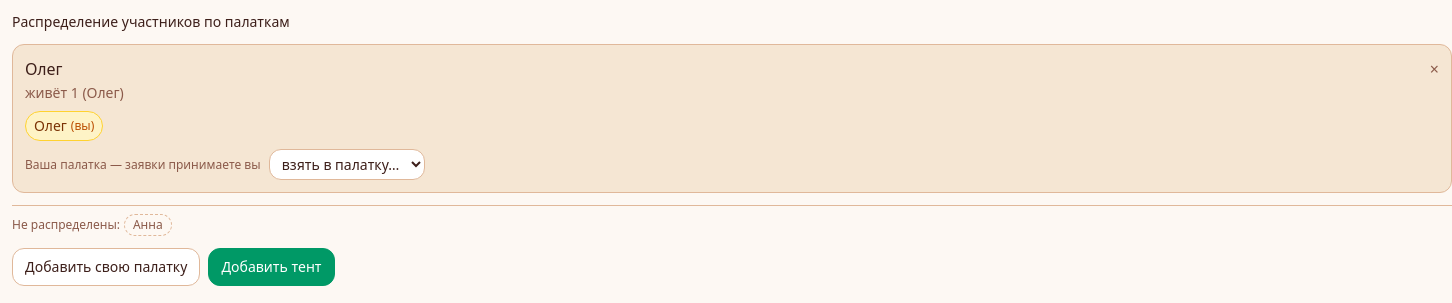
Test case: секция «Палатки» › владелец убирает свою палатку крестиком сразу
Step 1. Click the button with test id "route-tent-remove-g9" → point(1434, 69), box x1=1430 y1=57 x2=1439 y2=81
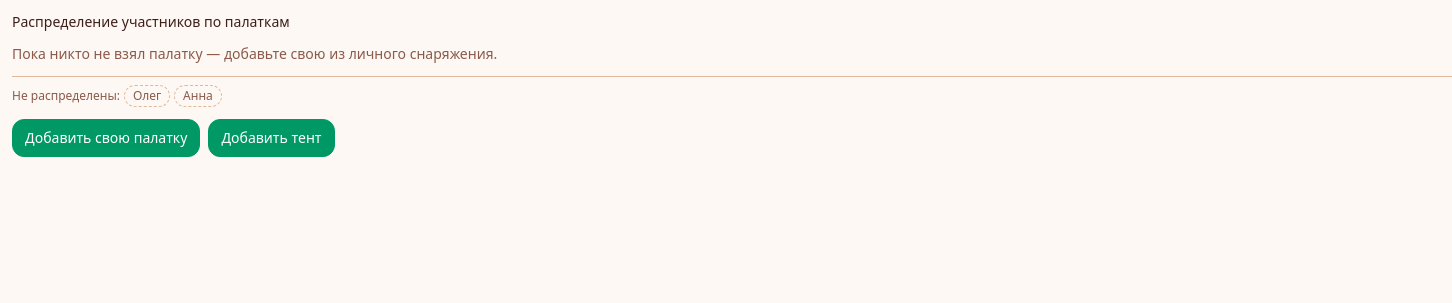
Result: no elements with test id "route-tent" are shown
Result: the text with test id "route-tents-empty" is shown at x1=12 y1=44 x2=497 y2=63
Result: the element with test id "route-tents-unassigned" shows "Олег" at x1=133 y1=87 x2=161 y2=104
